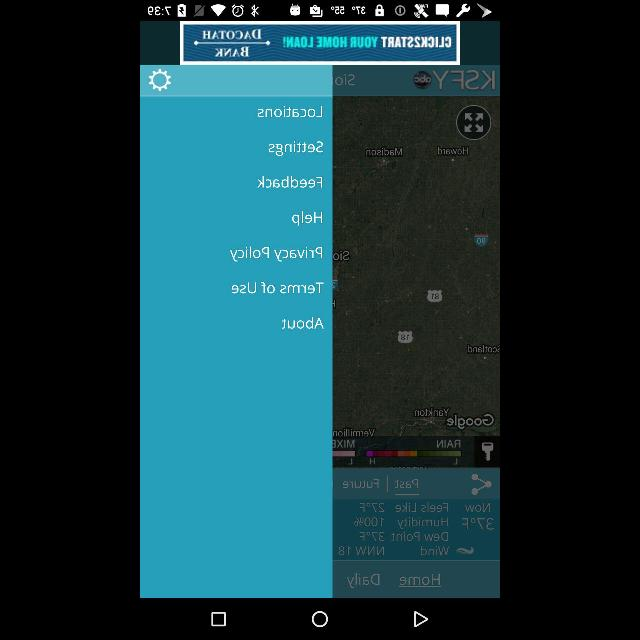icon: (148, 68, 172, 92), (471, 473, 492, 497), (412, 609, 430, 629), (312, 610, 330, 628), (211, 610, 227, 628), (455, 546, 477, 556)
iframe: (140, 20, 500, 64)
map: (332, 65, 500, 598)
panel: (141, 65, 333, 597), (140, 598, 500, 640)
text: (392, 532, 450, 544), (395, 502, 449, 514), (398, 574, 442, 588), (398, 516, 448, 528), (338, 546, 384, 558), (346, 572, 379, 588), (342, 478, 380, 490), (461, 518, 493, 532), (394, 476, 420, 492), (354, 517, 384, 529), (464, 502, 492, 514), (359, 502, 385, 514), (420, 546, 450, 556), (358, 532, 384, 542)
textbutton: (230, 244, 324, 262), (230, 281, 324, 297), (256, 104, 324, 120), (256, 175, 324, 191), (268, 140, 324, 156), (290, 210, 324, 228), (280, 318, 322, 332)
uppertaskbar: (140, 1, 500, 20)
